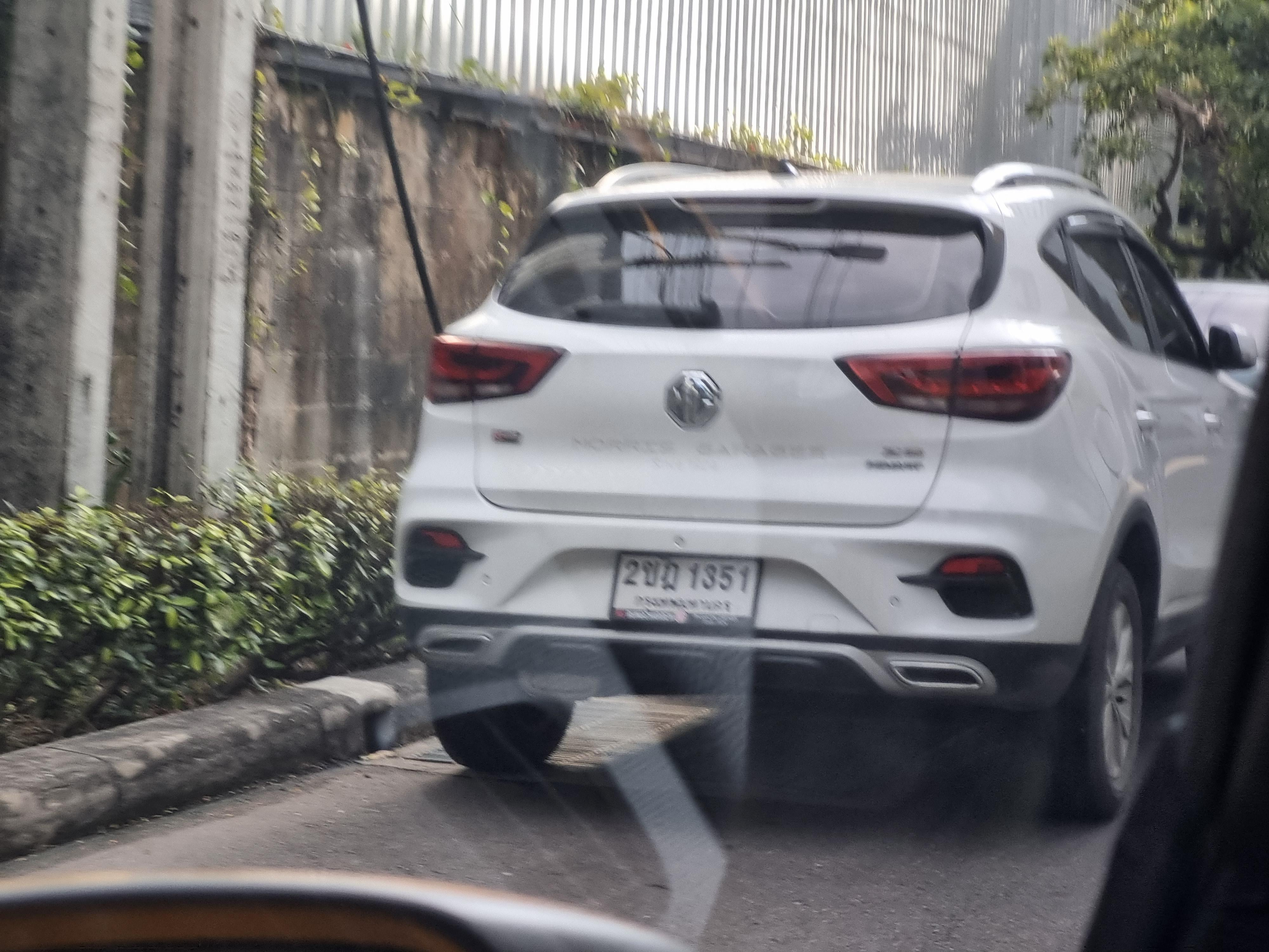license-plate: (611, 544, 766, 629)
